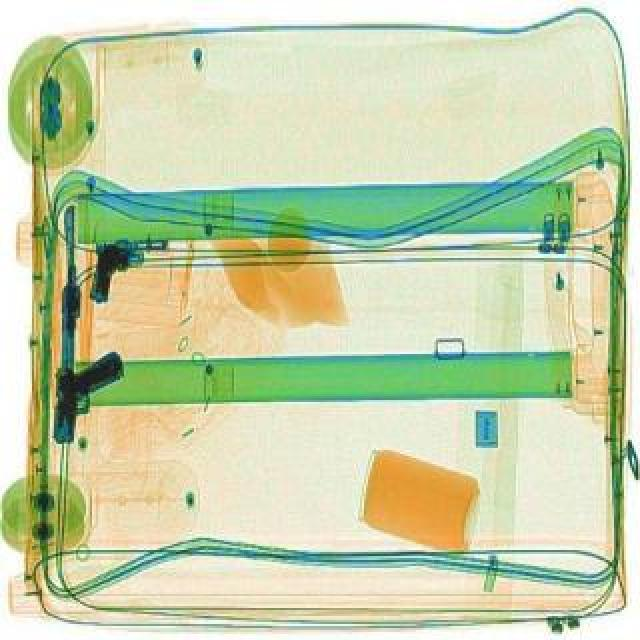gun: (20, 340, 150, 448), (82, 232, 174, 302), (56, 202, 82, 378)
